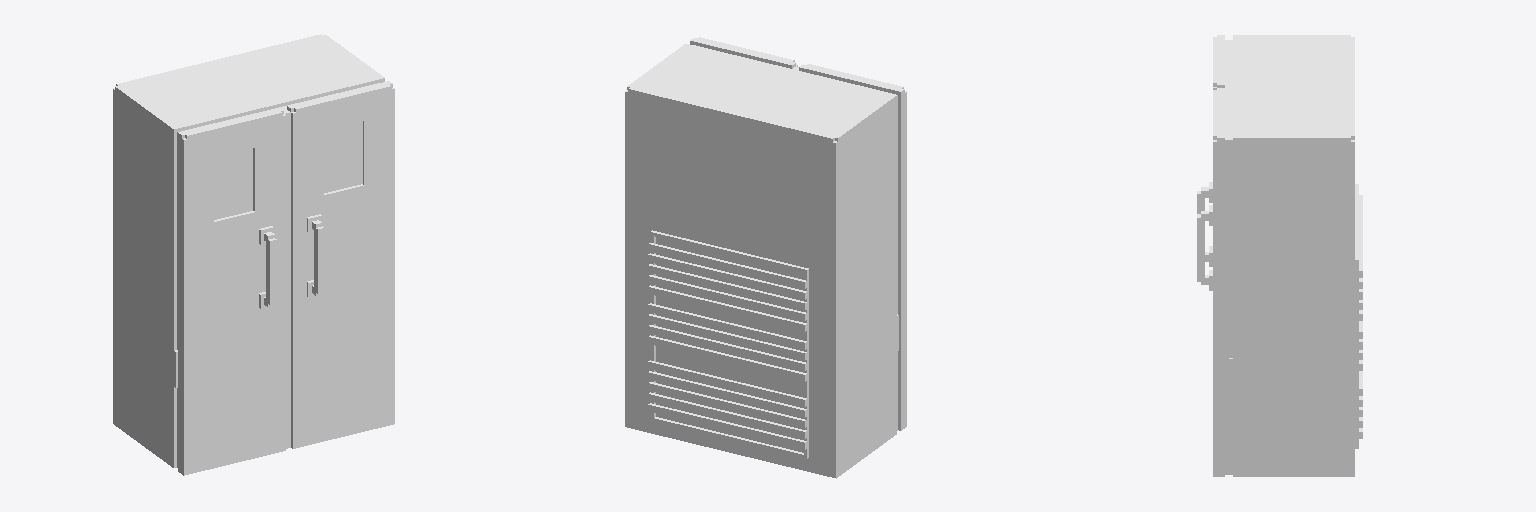
The model's file is bloodshelf.obj.
3 views of the same model, side by side, from view 1: azimuth 30°, elevation 25°; view 2: azimuth 150°, elevation 25°; view 3: azimuth 270°, elevation 25° (orthographic).
Visible parts, largest first — view 1: bloodshelf; view 2: bloodshelf; view 3: bloodshelf.
Part boxes in pixels (x1,y1,x2,y2): bloodshelf: (113, 34, 394, 475); bloodshelf: (625, 37, 906, 478); bloodshelf: (1197, 35, 1362, 476).
Bounding box in the file's own units: 62 × 95 × 42.